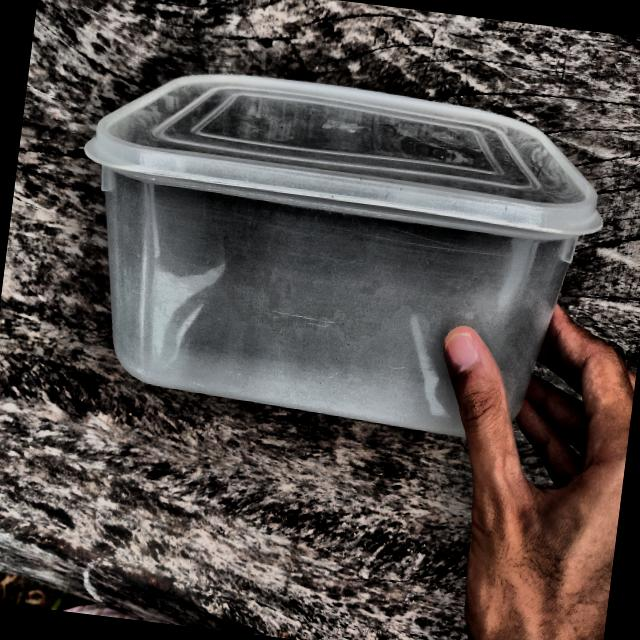plastic container: (71, 70, 595, 491)
